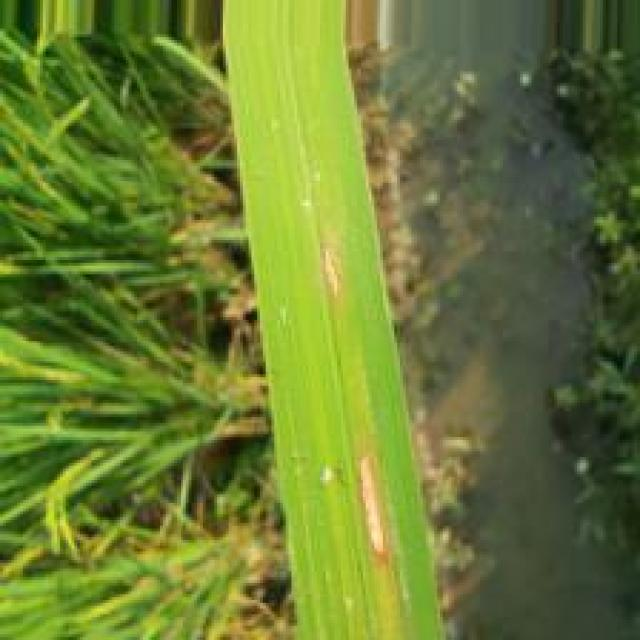Leaf_Blast: (355, 453, 388, 565), (317, 241, 346, 296)
